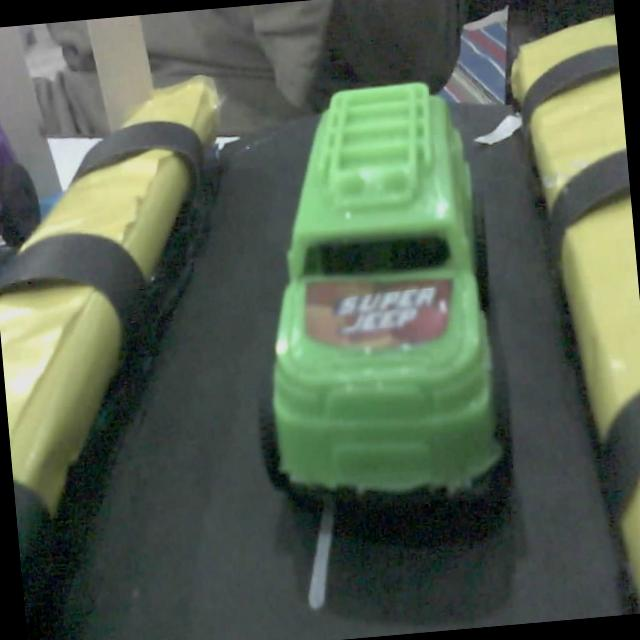OneCar: (247, 58, 523, 532)
